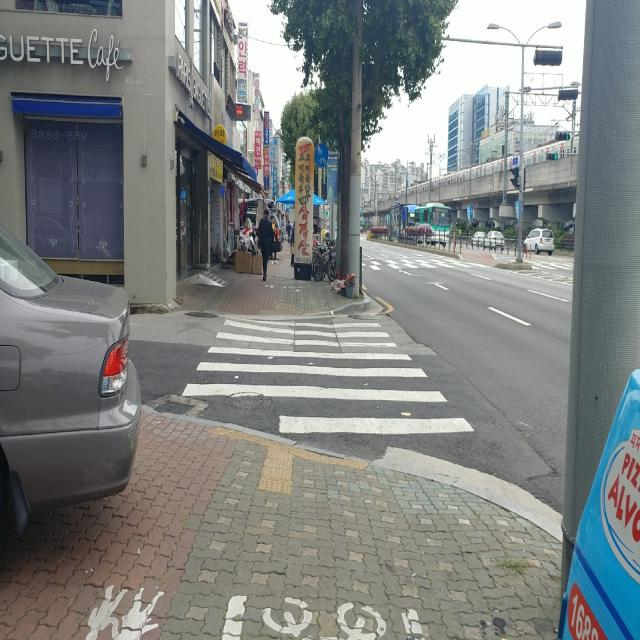횡단보도: (181, 318, 476, 436)
